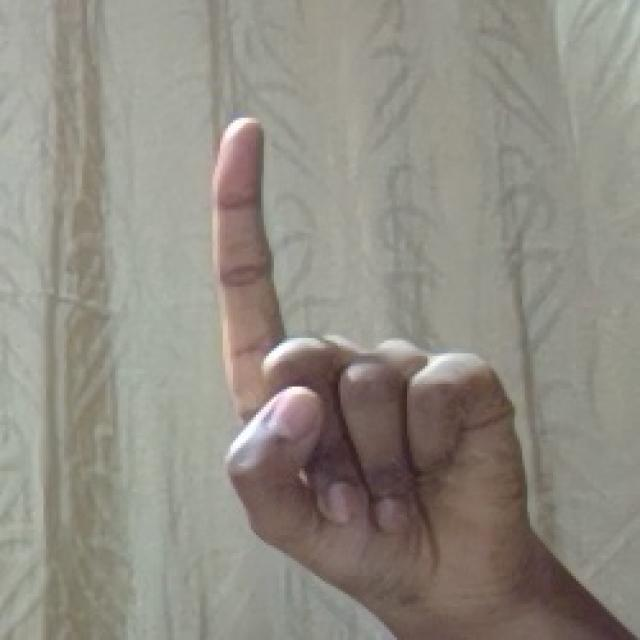Numeric-1: (213, 109, 516, 586)
